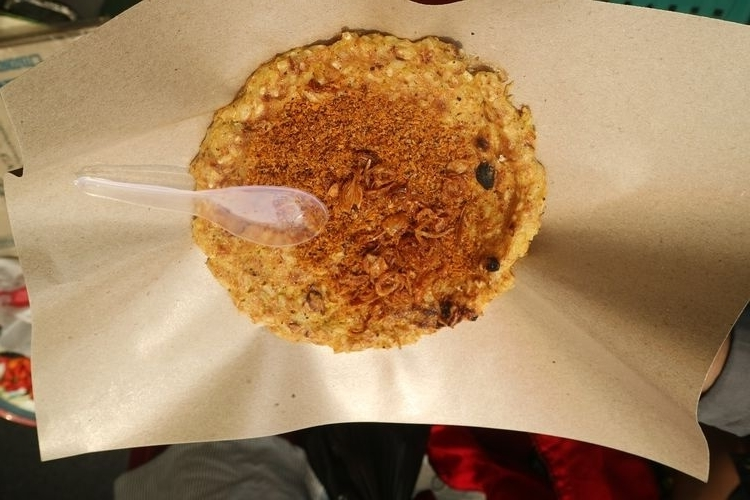kerak_telor: (193, 30, 547, 354)
